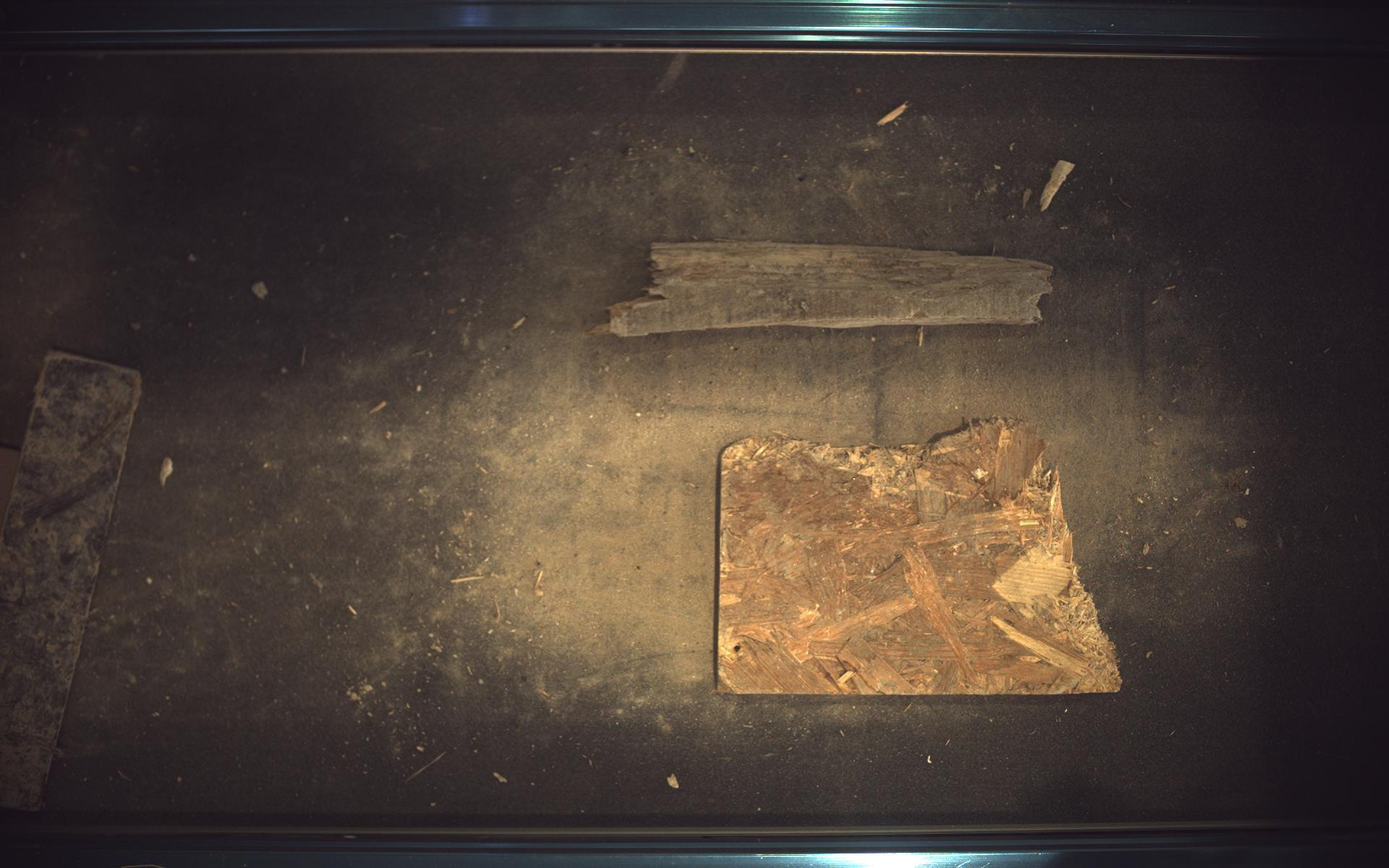wood: (718, 420, 1123, 697), (589, 242, 1054, 336)
